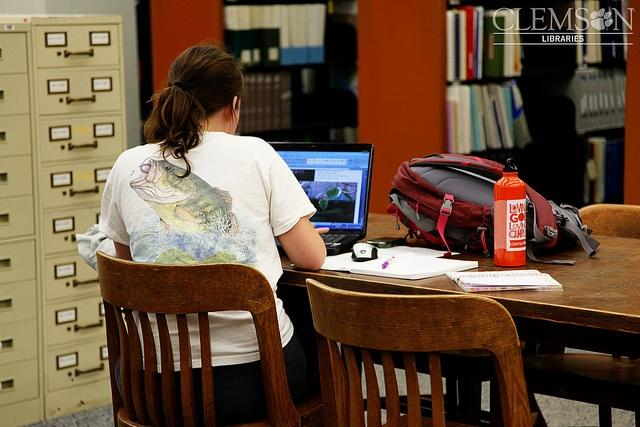Filing Cabinet: (25, 12, 127, 426)
Kursi: (96, 249, 324, 426)
